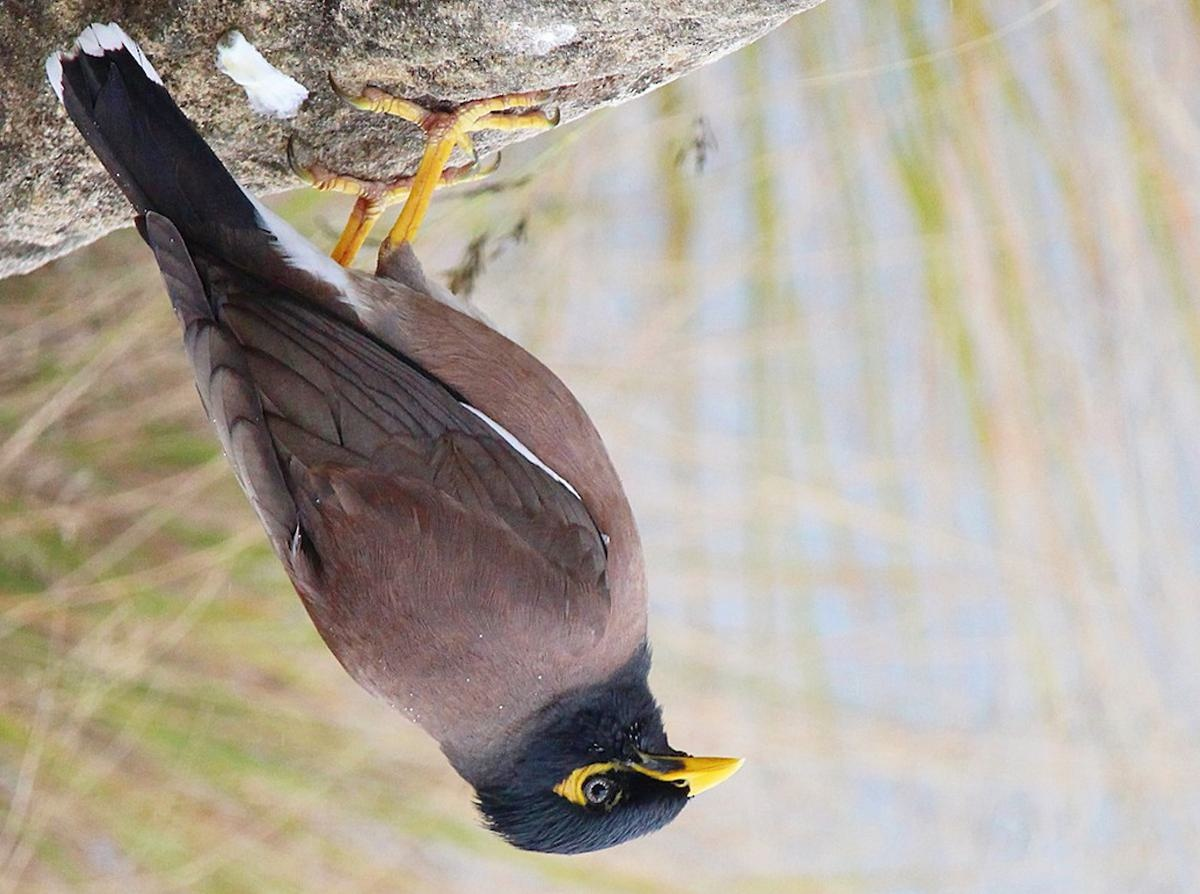myna: (137, 90, 757, 858)
